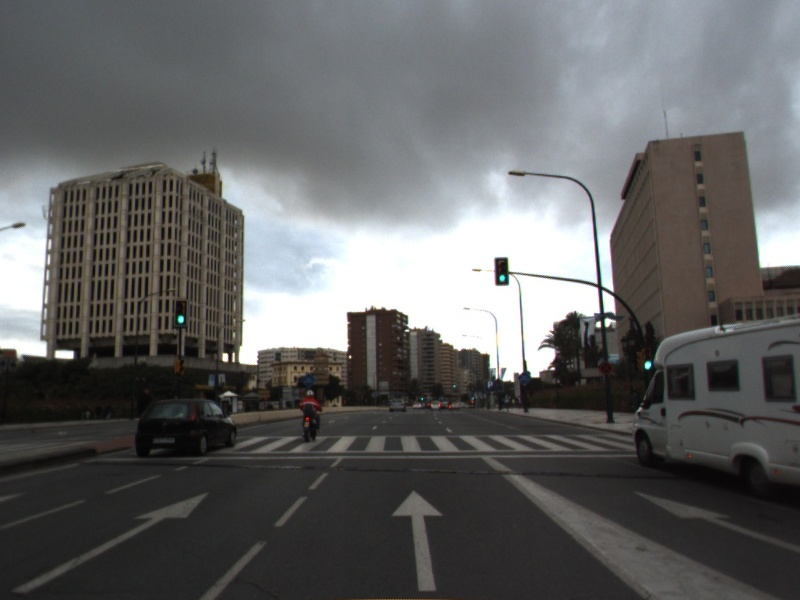STRAIGHT: (9, 487, 214, 596), (633, 489, 800, 553), (389, 487, 446, 593)
